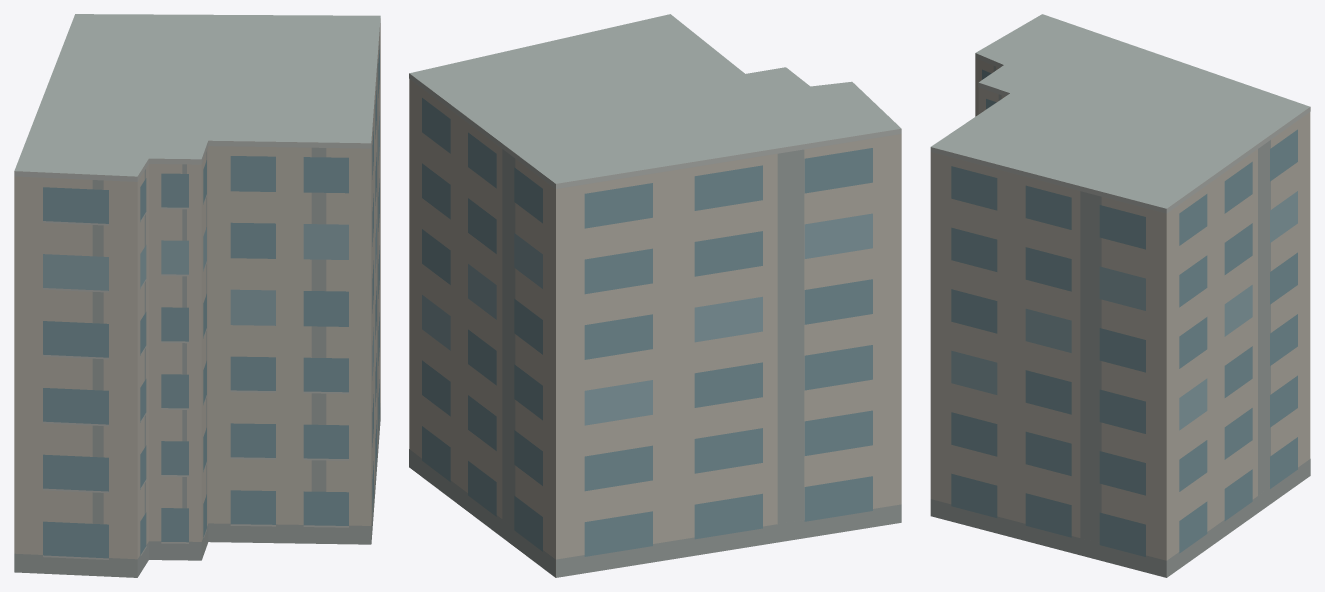
The model's file is survey-upis-32545236.glb.
3 views of the same model, side by side, from view 1: azimuth 30°, elevation 25°; view 2: azimuth 150°, elevation 25°; view 3: azimuth 270°, elevation 25° (orthographic). The views are drawn at different scales.
Parts seen in each view (by area): view 1: survey-upis-32545236.tmp; view 2: survey-upis-32545236.tmp; view 3: survey-upis-32545236.tmp.
Part boxes in pixels (left/top/right/bottom): survey-upis-32545236.tmp: left=14, top=14, right=380, bottom=577; survey-upis-32545236.tmp: left=409, top=14, right=901, bottom=577; survey-upis-32545236.tmp: left=930, top=14, right=1310, bottom=577.
Bounding box in the file's own units: 20.72 × 18.3 × 17.08.
